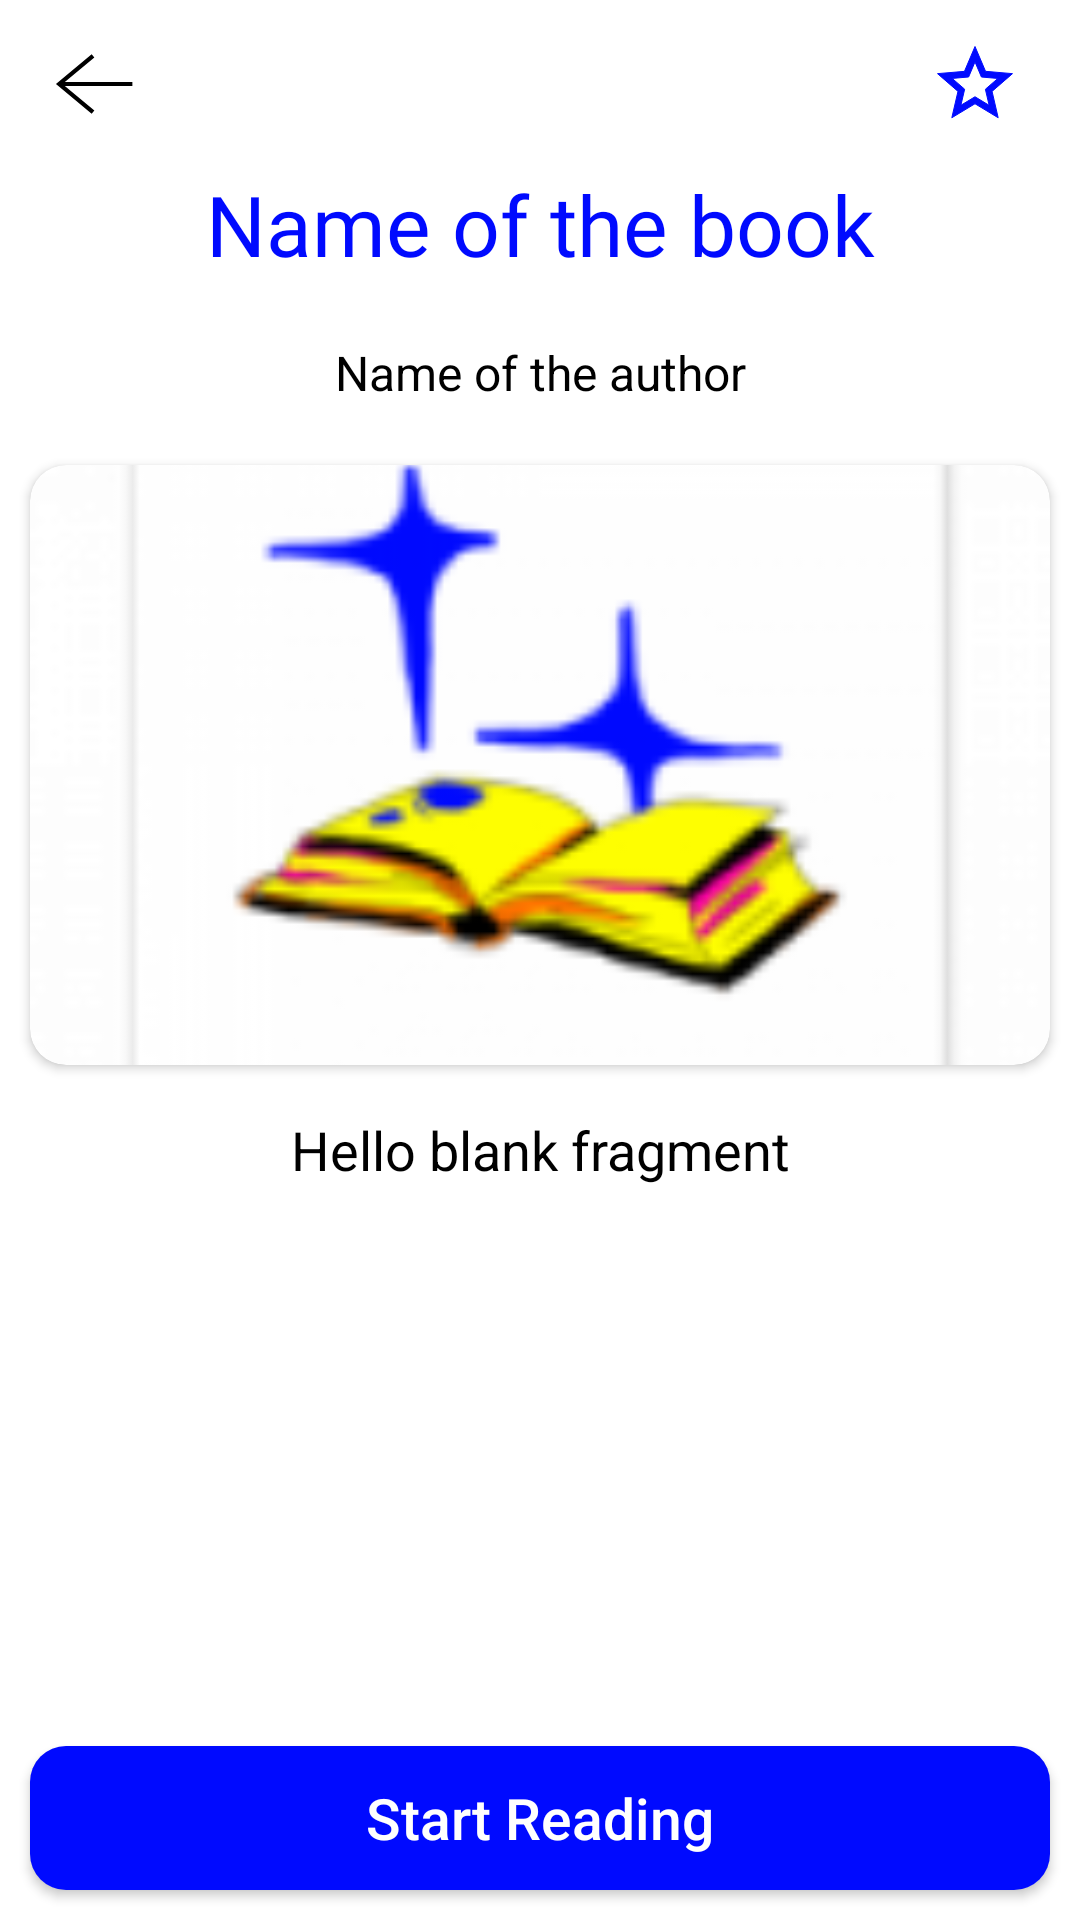

Where to tap for icons on this 1080w x 1920h app screen, as [x,y]:
back arrow: [94,84]
empty star: [975,82]
